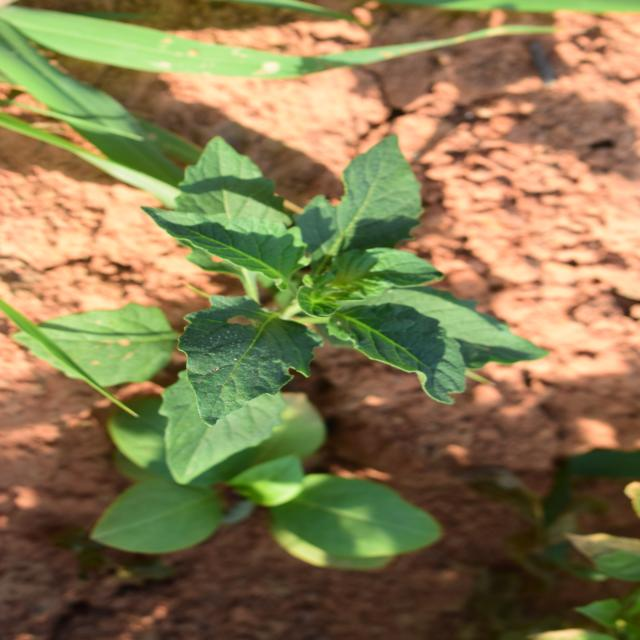Black_nightshade: (159, 137, 420, 509)
